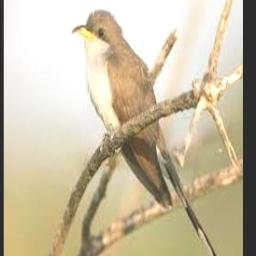Cuckoo: (72, 9, 219, 256)
